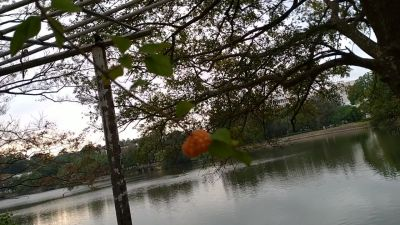eggs: (181, 129, 211, 159)
